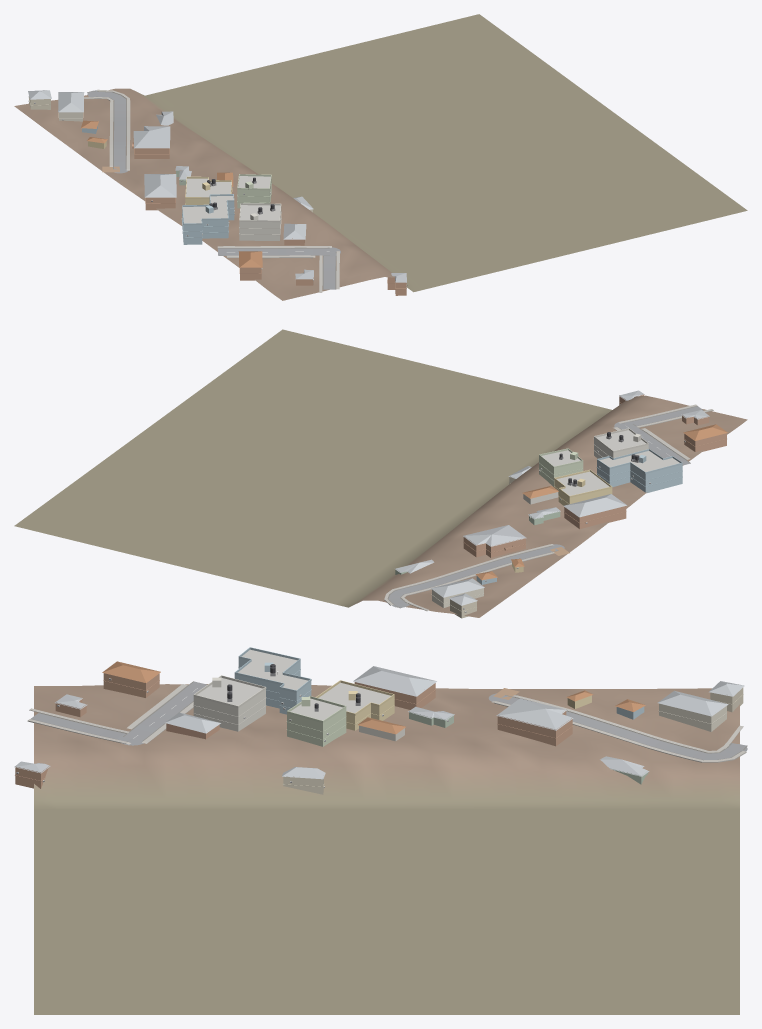
The picture shows the model from 3 angles, top to bottom: view 1: azimuth 30°, elevation 25°; view 2: azimuth 150°, elevation 25°; view 3: azimuth 270°, elevation 25°; orthographic projection. The views are drawn at different scales.
Parts seen in each view (by area): view 1: Terrain-col, Buildings-col, Roads-col, Details, Sidewalks-col; view 2: Terrain-col, Buildings-col, Roads-col, Details, Sidewalks-col; view 3: Terrain-col, Buildings-col, Roads-col, Details, Sidewalks-col.
Boxes of the visible parts, bbox=[...] form: Terrain-col: bbox=[14, 14, 747, 300]; Buildings-col: bbox=[28, 90, 406, 295]; Roads-col: bbox=[87, 90, 340, 289]; Details: bbox=[28, 96, 407, 289]; Sidewalks-col: bbox=[84, 89, 339, 292]; Terrain-col: bbox=[14, 329, 747, 617]; Buildings-col: bbox=[395, 390, 727, 618]; Roads-col: bbox=[387, 406, 703, 608]; Details: bbox=[431, 402, 726, 612]; Sidewalks-col: bbox=[384, 404, 713, 610]; Terrain-col: bbox=[34, 684, 739, 1014]; Buildings-col: bbox=[14, 649, 744, 794]; Roads-col: bbox=[31, 681, 747, 760]; Details: bbox=[15, 647, 743, 787]; Sidewalks-col: bbox=[27, 684, 746, 762].
Bounding box in the file's own units: 265 × 25.99 × 266.
